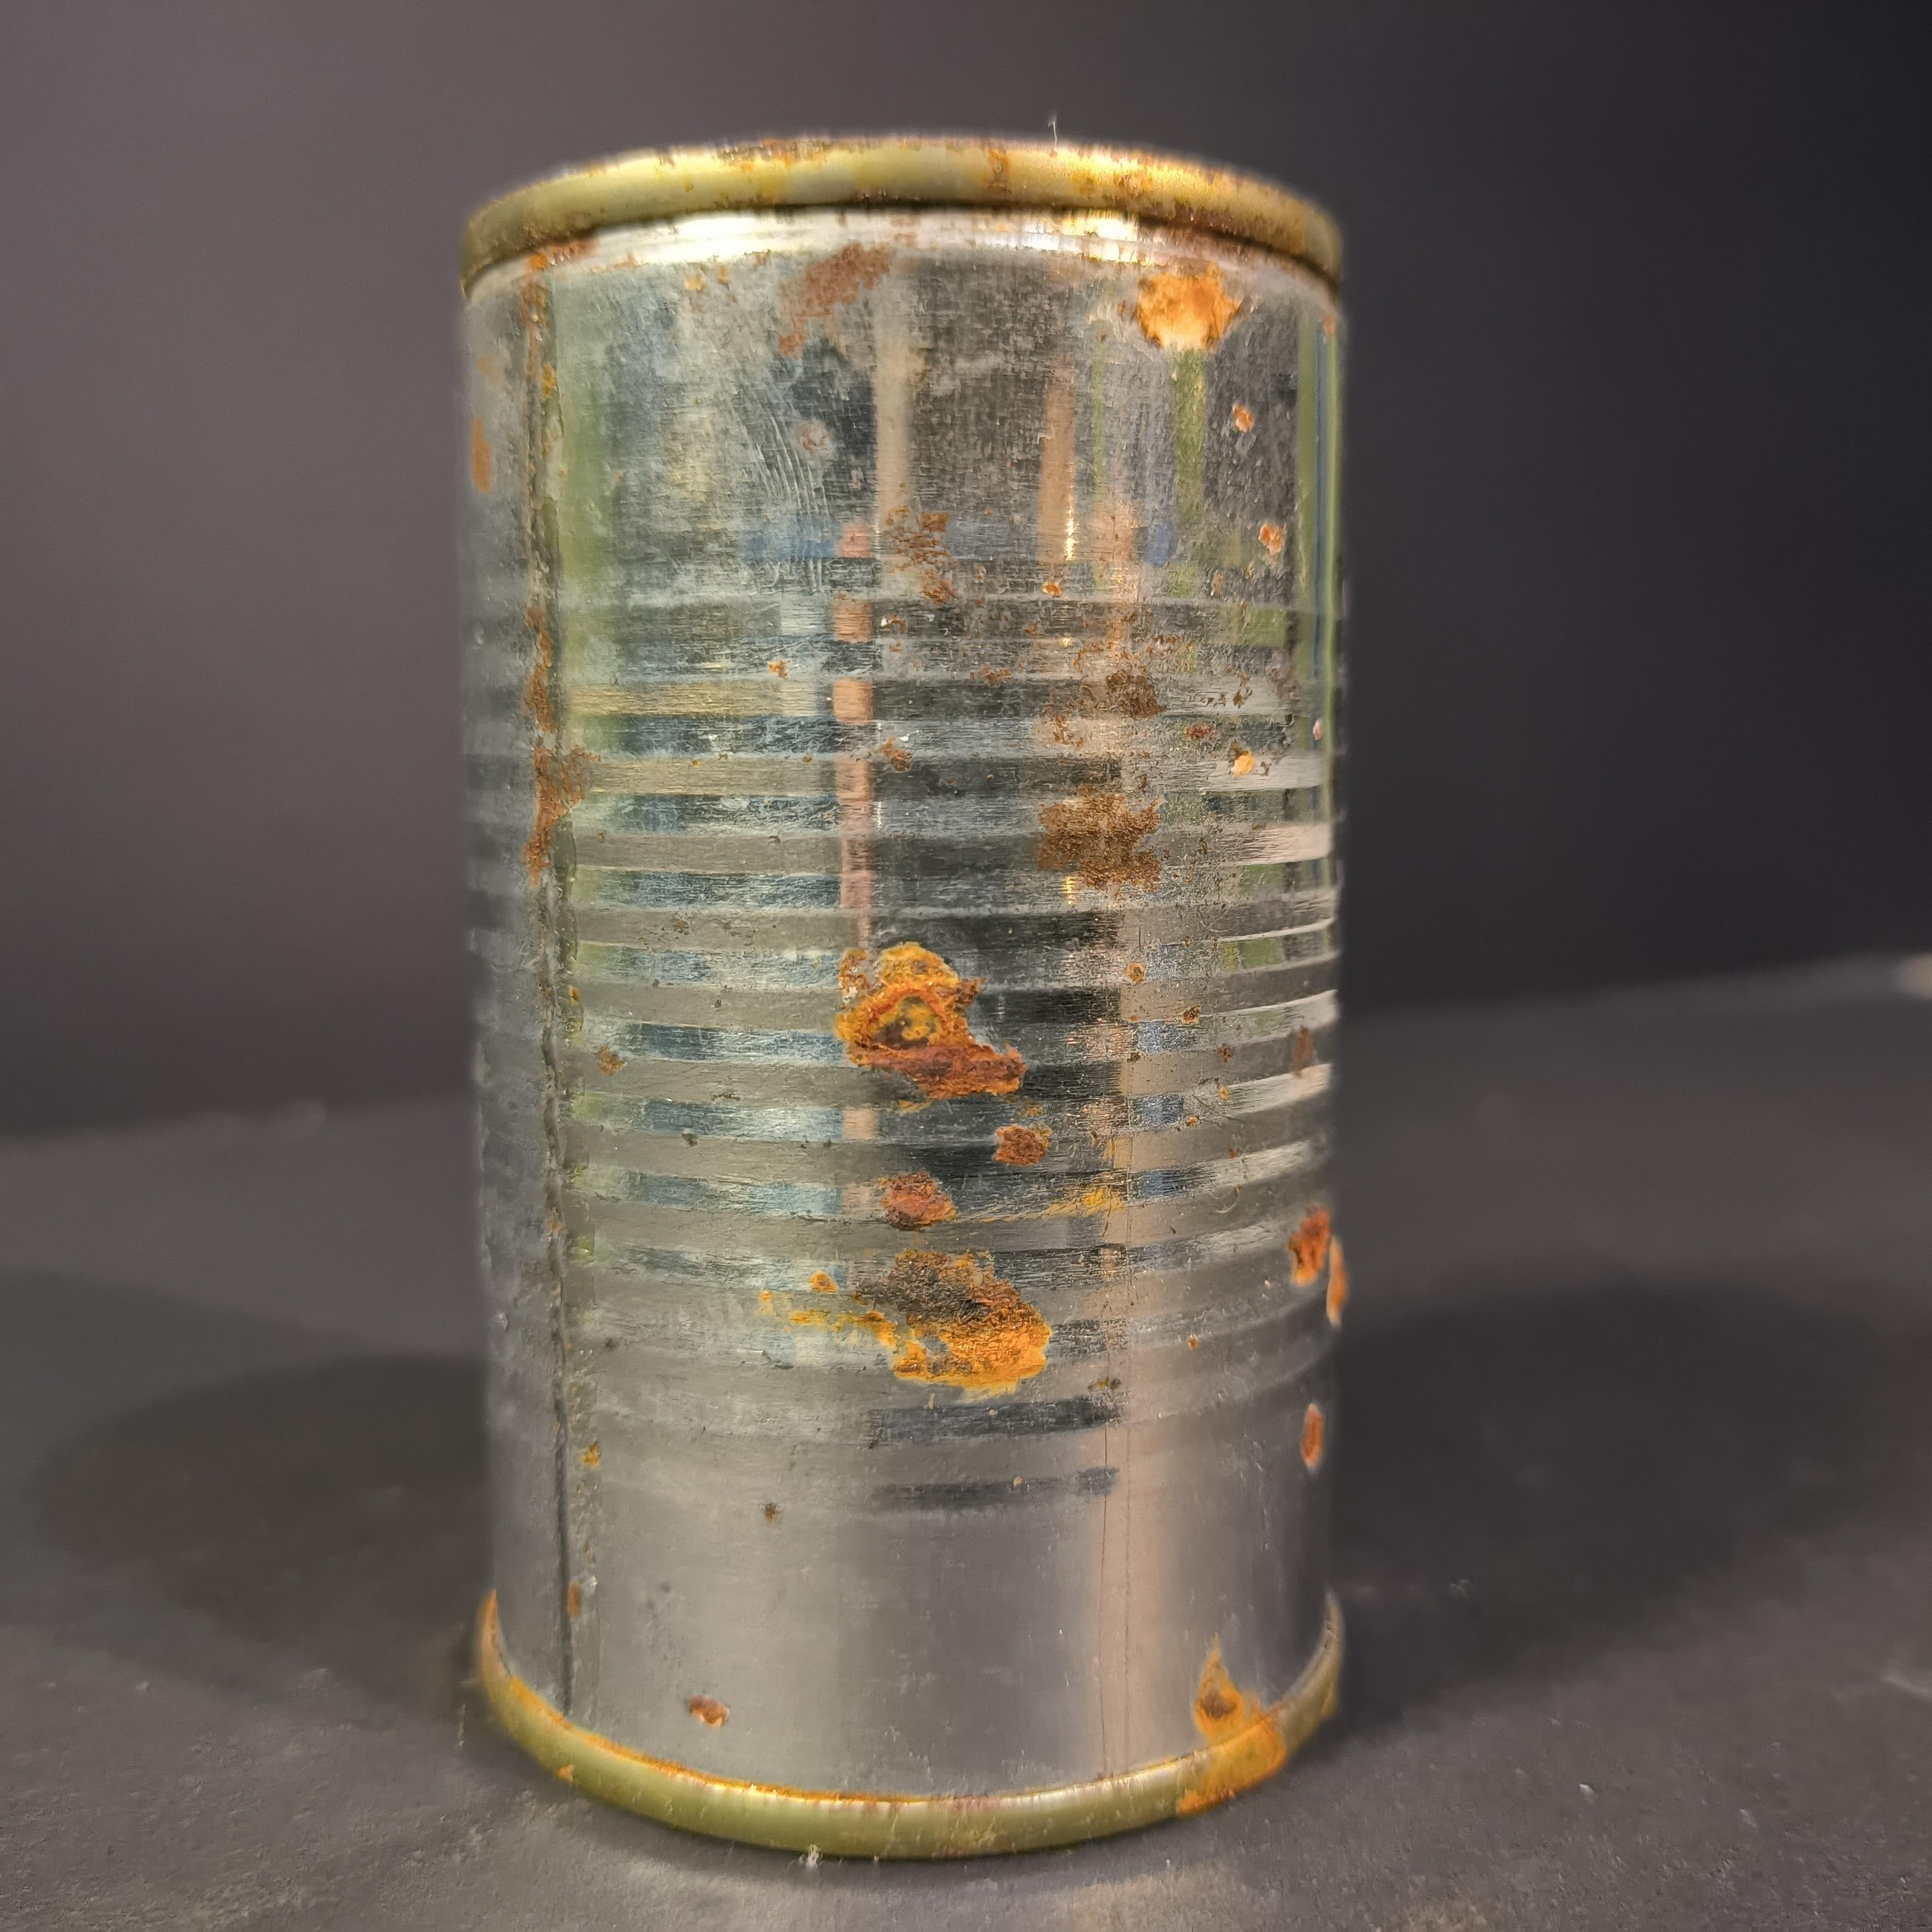Rusted: (423, 101, 1375, 1877)
